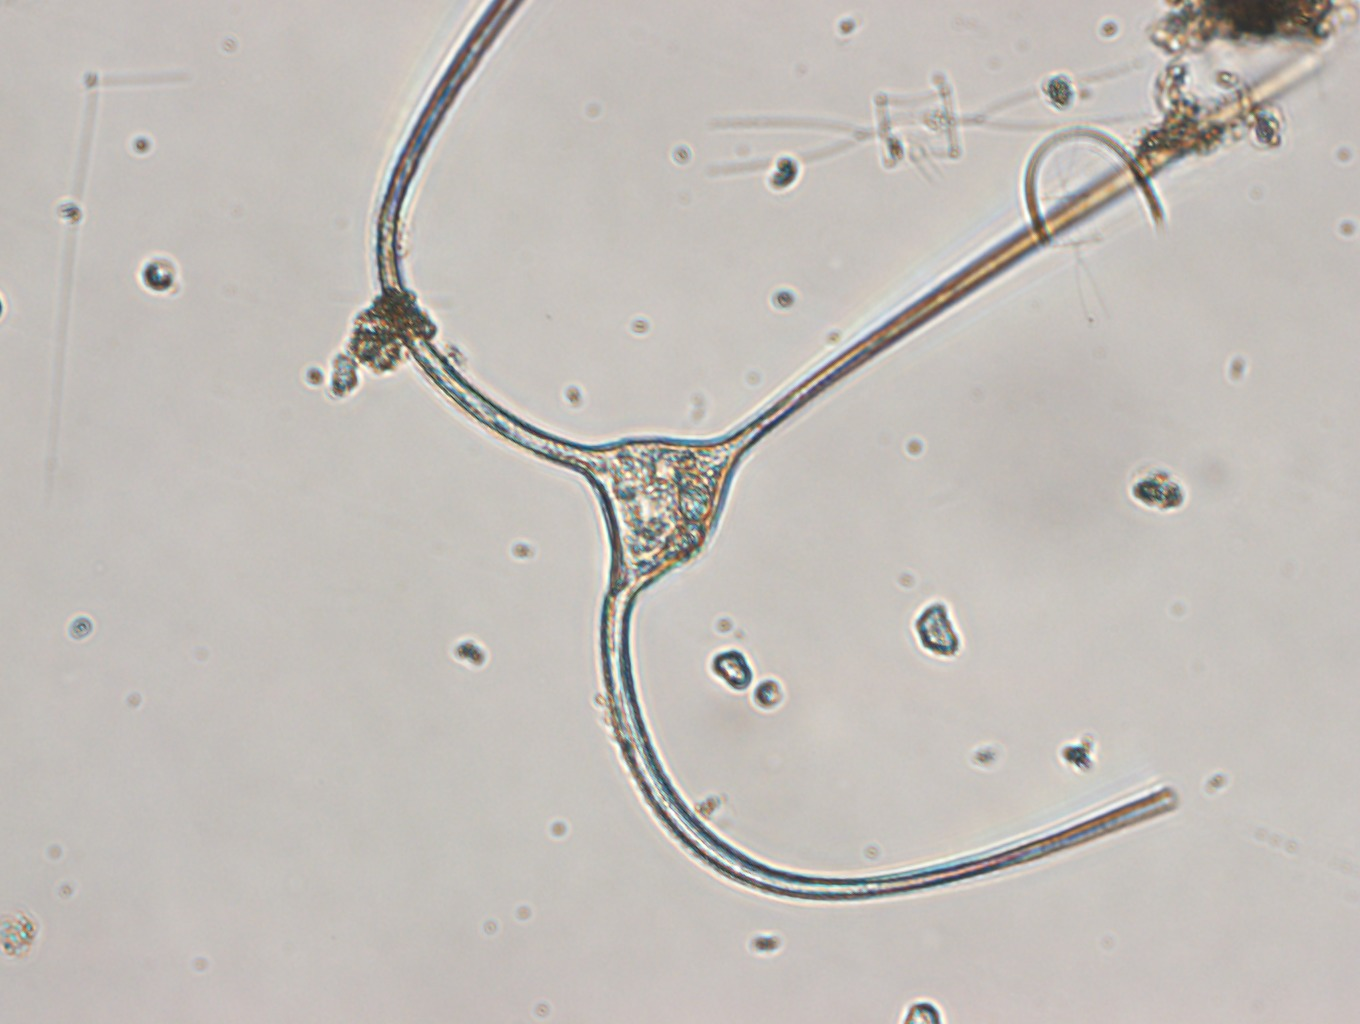ceratium trichoceros: (369, 8, 1330, 908)
